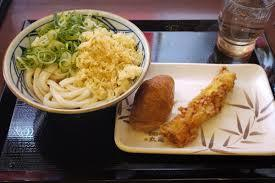bukkake: (5, 9, 143, 111)
